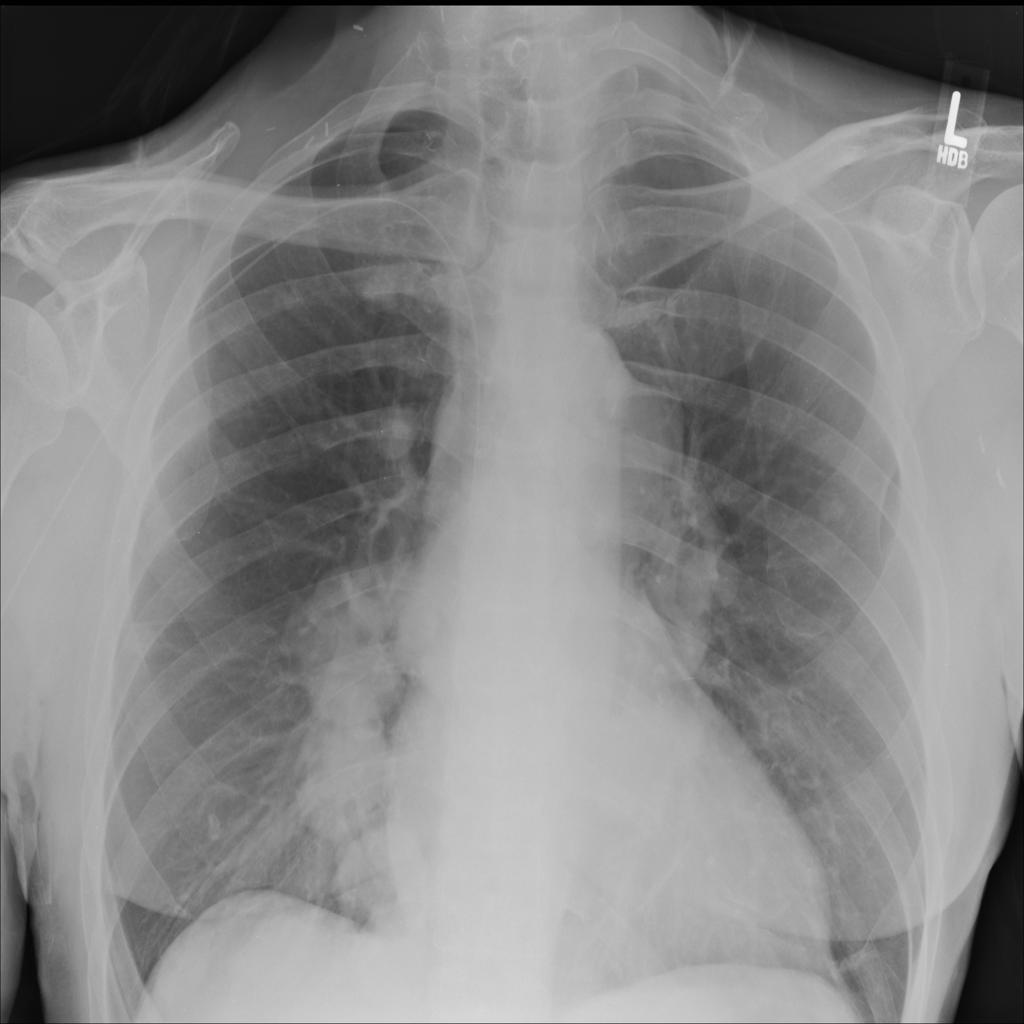nodule: (625, 501, 756, 666), (287, 585, 414, 740), (286, 685, 408, 841), (357, 391, 429, 472), (341, 246, 413, 319), (801, 473, 870, 546), (108, 602, 177, 673), (264, 272, 315, 324), (195, 797, 240, 853)
